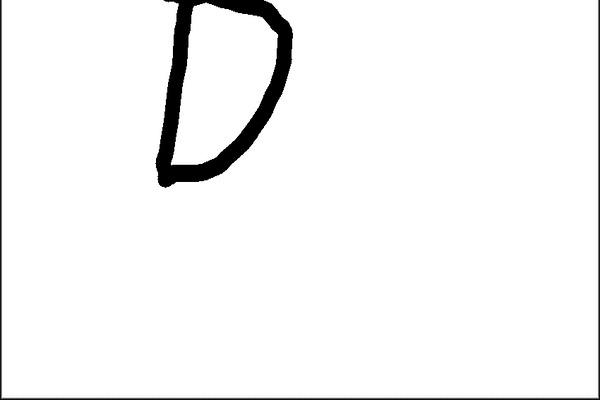D: (147, 0, 299, 196)
